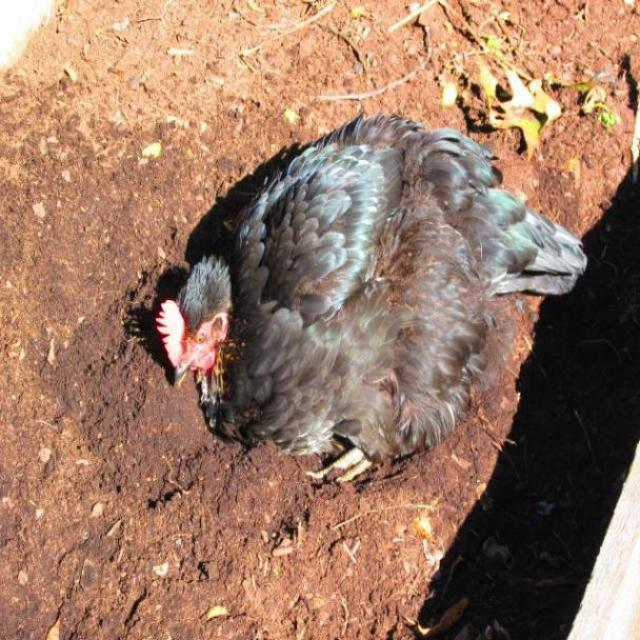Chicken: (155, 112, 587, 490)
